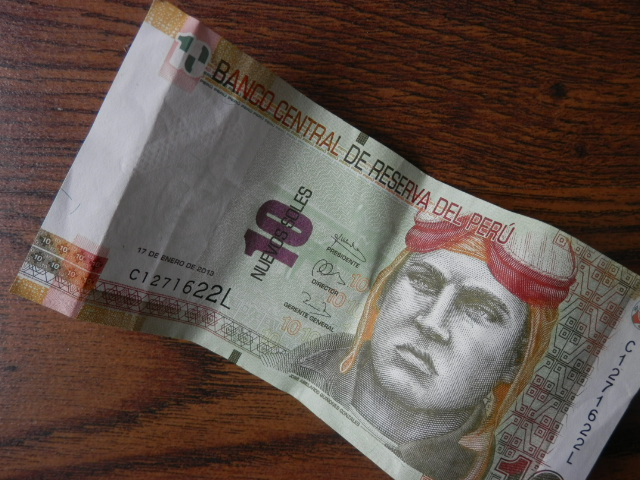B10: (35, 23, 617, 467)
